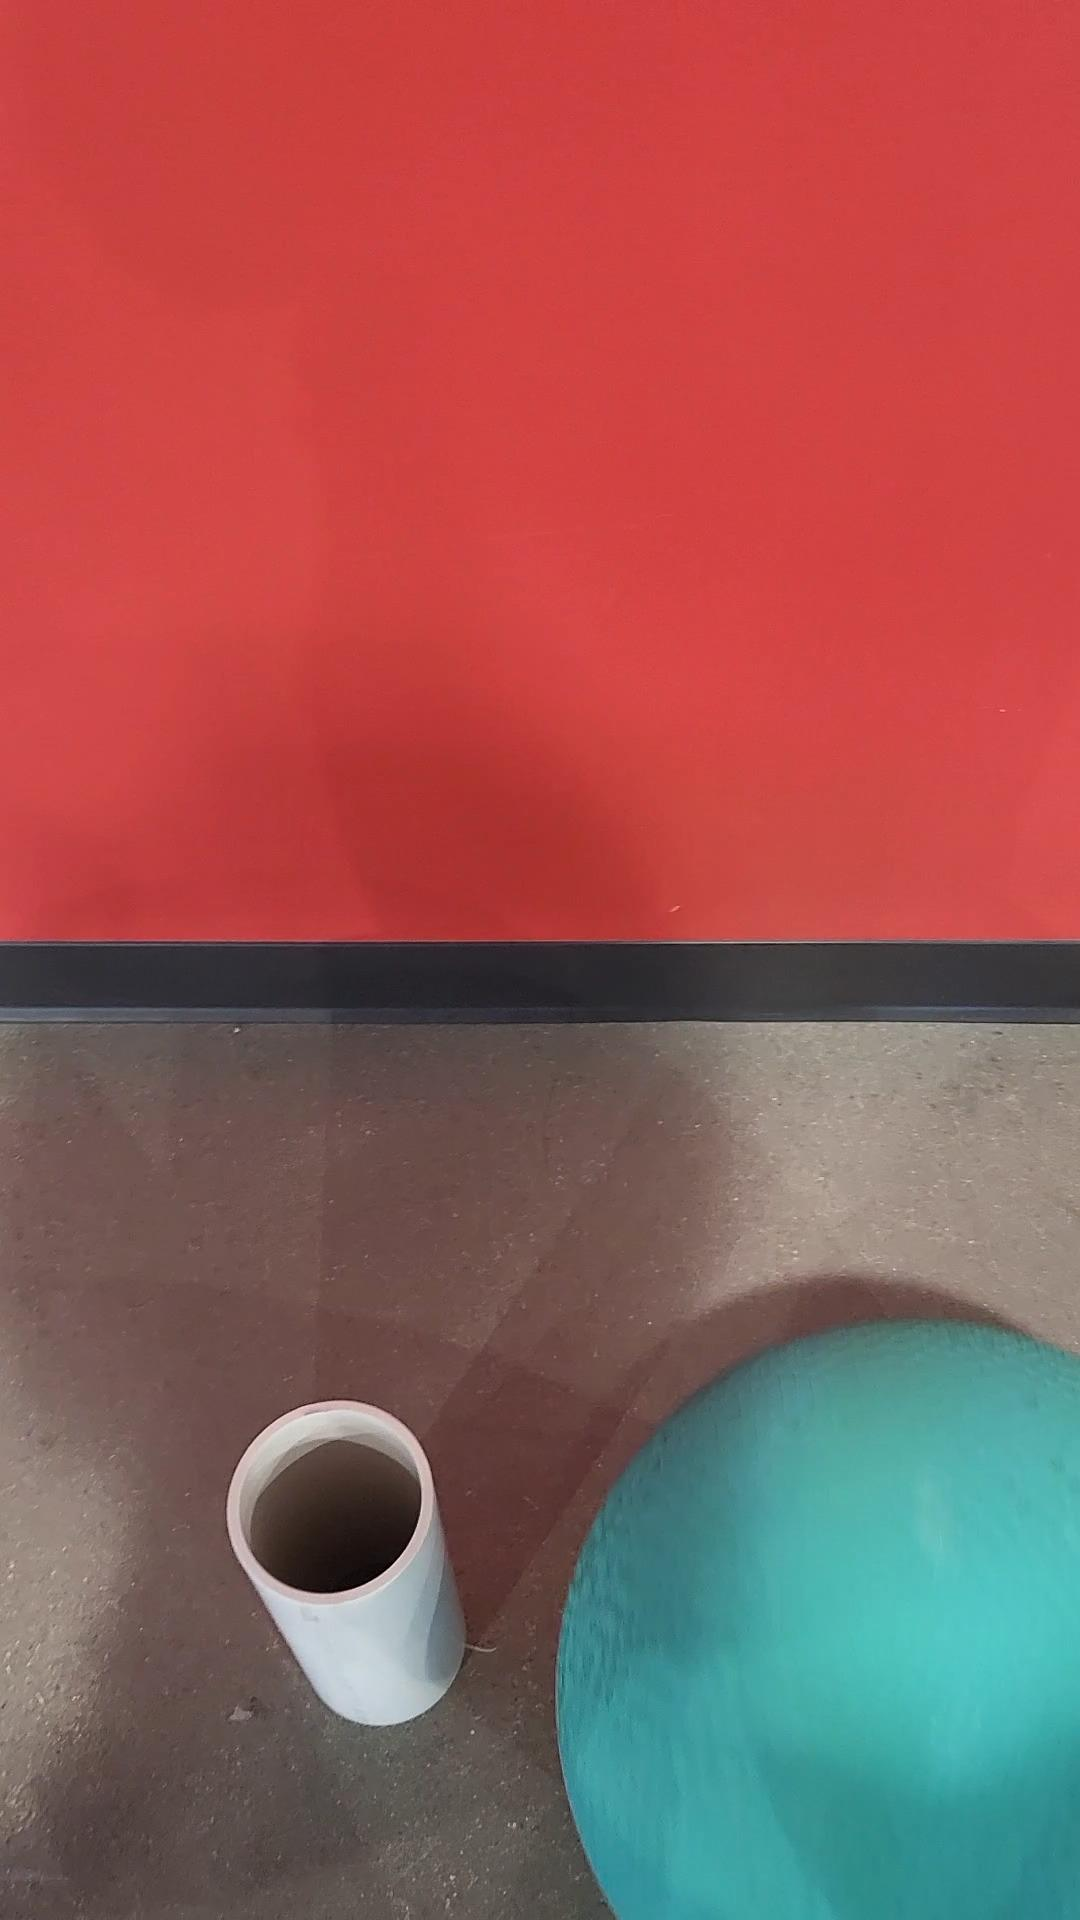algae: (551, 1315, 1079, 1920)
coral: (229, 1395, 472, 1726)
